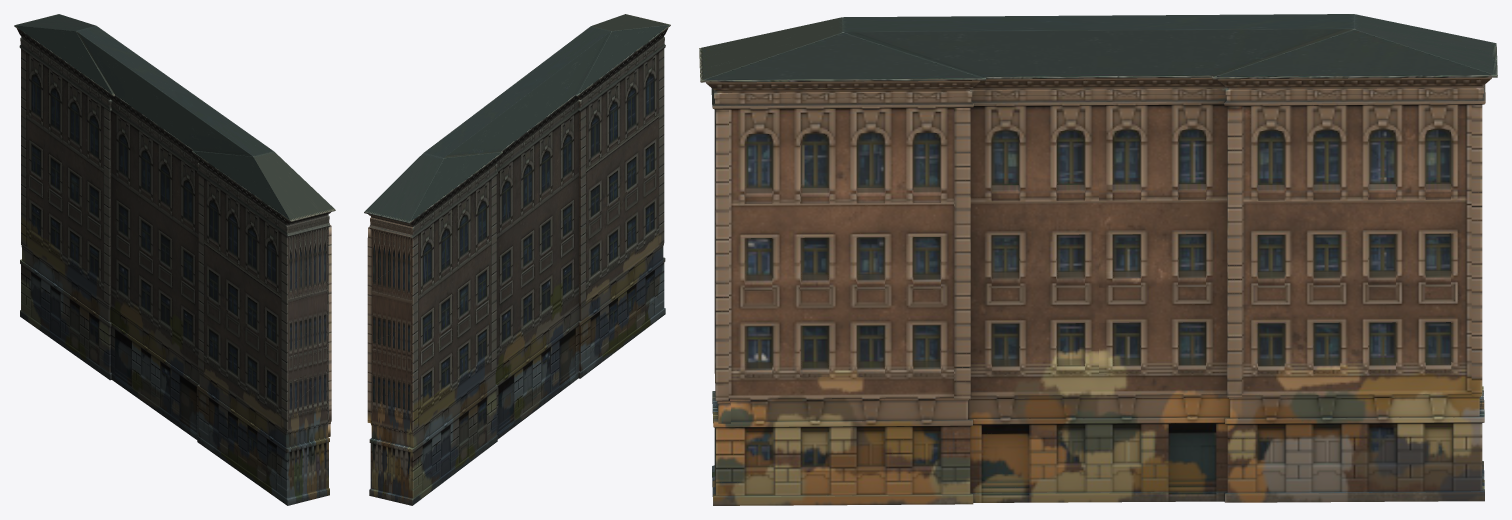
Rendered from build2.fbx.
3 views of the same model, side by side, from view 1: azimuth 30°, elevation 25°; view 2: azimuth 150°, elevation 25°; view 3: azimuth 270°, elevation 25° (orthographic). The views are drawn at different scales.
Visible parts, largest first — view 1: Line001; view 2: Line001; view 3: Line001.
Part boxes in pixels (x1,y1,x2,y2): Line001: (14, 14, 335, 505); Line001: (364, 14, 670, 505); Line001: (699, 14, 1497, 505).
Bounding box in the file's own units: 111 × 615 × 957.
